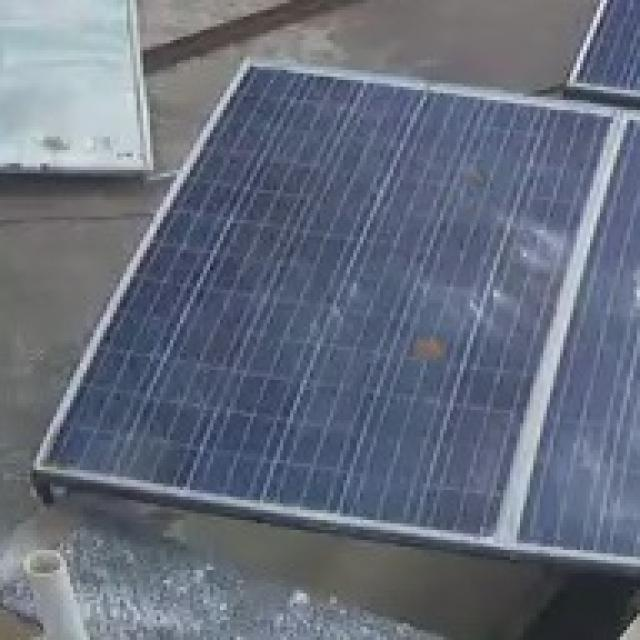Bird-drop: (462, 216, 552, 327)
Dusty: (399, 324, 454, 373)
